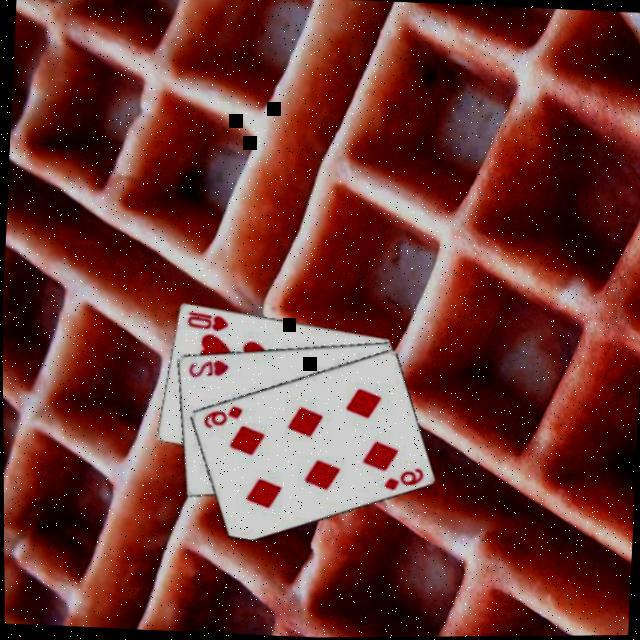10H: (183, 306, 230, 332)
2H: (183, 353, 230, 379)
6D: (379, 462, 425, 494), (198, 400, 243, 430)
